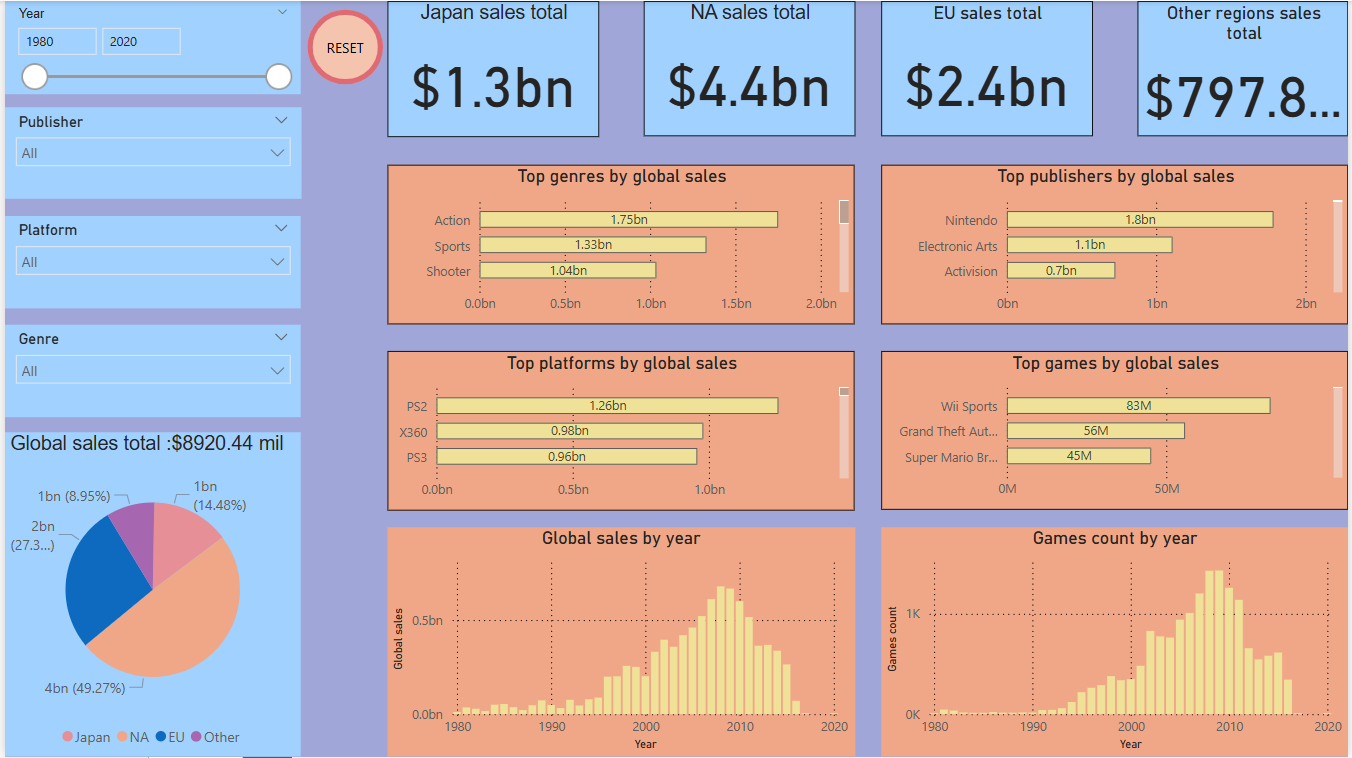

The page's visual inventory and layout, read from the dashboard file:
{"tool":"powerbi","page":{"name":"Page 1","canvas":[1280,720],"ordinal":0},"visuals":[{"type":"pieChart","fields":{"Y":["Sum(video games sales.JP_Sales)","Sum(video games sales.NA_Sales)","Sum(video games sales.EU_Sales)","Sum(video games sales.Other_Sales)"]},"box":[0,410.5,281.9,309],"z":1000},{"type":"card","title":"Japan sales total","fields":{"Values":["Sum(video games sales.JP_Sales)"]},"box":[363.8,0,201.3,129.4],"z":2000},{"type":"card","title":"NA sales total","fields":{"Values":["Sum(video games sales.NA_Sales)"]},"box":[607.8,0,201.4,129],"z":3000},{"type":"card","title":"EU sales total","fields":{"Values":["Sum(video games sales.EU_Sales)"]},"box":[834.8,0,201.4,129],"z":4000},{"type":"card","title":"Other regions sales total","fields":{"Values":["Sum(video games sales.Other_Sales)"]},"box":[1078.6,0,201.4,129],"z":5000},{"type":"slicer","fields":{"Values":["video games sales.Year"]},"box":[0,0,281.9,89.1],"z":6000},{"type":"slicer","fields":{"Values":["video games sales.Publisher"]},"box":[0,101.2,282.1,87.5],"z":7000},{"type":"slicer","fields":{"Values":["video games sales.Platform"]},"box":[0,205.3,281.9,88],"z":8000},{"type":"slicer","fields":{"Values":["video games sales.Genre"]},"box":[0,307.9,281.9,88],"z":9000},{"type":"columnChart","title":"Global sales by year","fields":{"Category":["video games sales.Year"],"Y":["Sum(video games sales.Global_Sales)"]},"box":[363.9,501.8,445.2,218.2],"z":10000},{"type":"clusteredBarChart","title":"Top games by global sales ","fields":{"Y":["Sum(video games sales.Global_Sales)"],"Category":["video games sales.Name"]},"box":[834.8,333.9,445.2,151.1],"z":11000},{"type":"clusteredBarChart","title":"Top platforms by global sales ","fields":{"Y":["Sum(video games sales.Global_Sales)"],"Category":["video games sales.Platform"]},"box":[363.8,333.6,445,151.7],"z":12000},{"type":"clusteredBarChart","title":"Top genres by global sales ","fields":{"Y":["Sum(video games sales.Global_Sales)"],"Category":["video games sales.Genre"]},"box":[363.8,155.6,445,151.7],"z":13000},{"type":"clusteredBarChart","title":"Top publishers by global sales ","fields":{"Y":["Sum(video games sales.Global_Sales)"],"Category":["video games sales.Publisher"]},"box":[834.8,156.4,445.2,151.9],"z":14000},{"type":"shape","box":[287.9,8.8,72,71],"z":14001},{"type":"columnChart","title":"Games count by year","fields":{"Category":["video games sales.Year"],"Y":["CountNonNull(video games sales.Name)"]},"box":[834.8,501.8,445.2,218.2],"z":14002}]}

Visuals, with their boxes in screenshot pixels (x1, y1, x2, y2), scaled from the page's 1280x720 canvas onto the 1352x758 screenshot:
pieChart - Sum(video games sales.JP_Sales) x Sum(video games sales.NA_Sales): (left=0, top=432, right=298, bottom=757)
"Japan sales total" card: (left=384, top=0, right=597, bottom=136)
"NA sales total" card: (left=642, top=0, right=855, bottom=136)
"EU sales total" card: (left=882, top=0, right=1094, bottom=136)
"Other regions sales total" card: (left=1139, top=0, right=1351, bottom=136)
slicer - video games sales.Year: (left=0, top=0, right=298, bottom=94)
slicer - video games sales.Publisher: (left=0, top=107, right=298, bottom=199)
slicer - video games sales.Platform: (left=0, top=216, right=298, bottom=309)
slicer - video games sales.Genre: (left=0, top=324, right=298, bottom=417)
"Global sales by year" columnChart: (left=384, top=528, right=855, bottom=757)
"Top games by global sales " clusteredBarChart: (left=882, top=352, right=1351, bottom=511)
"Top platforms by global sales " clusteredBarChart: (left=384, top=351, right=854, bottom=511)
"Top genres by global sales " clusteredBarChart: (left=384, top=164, right=854, bottom=324)
"Top publishers by global sales " clusteredBarChart: (left=882, top=165, right=1351, bottom=325)
shape: (left=304, top=9, right=380, bottom=84)
"Games count by year" columnChart: (left=882, top=528, right=1351, bottom=757)
